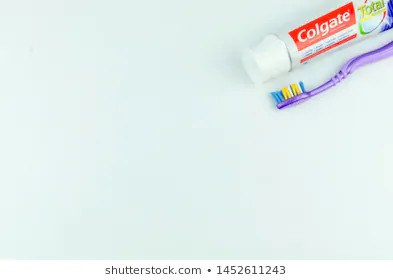colgate-total-150gm: (241, 1, 391, 86)
toothbrush: (262, 50, 372, 115)
